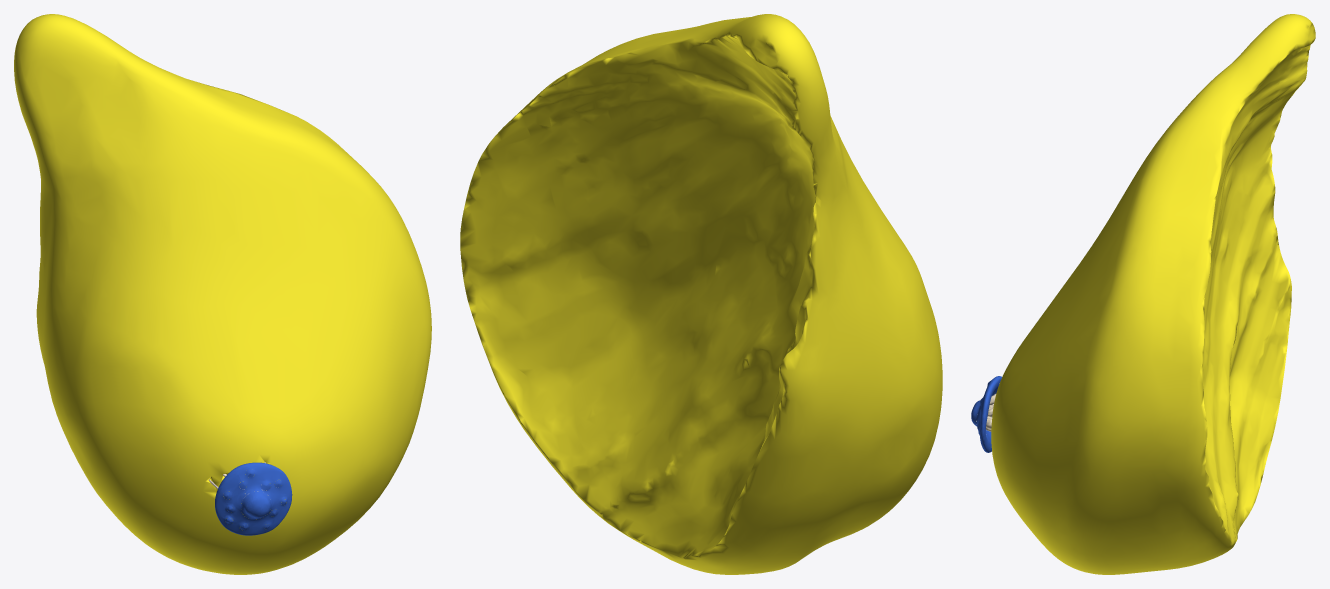
The model's file is 3d-vh-f-mammary-gland-r.glb.
The picture shows the model from 3 angles, left to right: view 1: azimuth 30°, elevation 25°; view 2: azimuth 150°, elevation 25°; view 3: azimuth 270°, elevation 25°; orthographic projection. The views are drawn at different scales.
Visible parts, largest first — view 1: VH_F_fat_R, VH_F_areola_R, VH_F_nipple_R, VH_F_areolar_tubercles_R; view 2: VH_F_fat_R; view 3: VH_F_fat_R, VH_F_areola_R.
Boxes of the visible parts, x1,y1,x2,y2 form: VH_F_fat_R: (14,14,431,574); VH_F_areola_R: (215,462,292,535); VH_F_nipple_R: (241,491,271,519); VH_F_areolar_tubercles_R: (223,468,286,530); VH_F_fat_R: (460,14,942,574); VH_F_fat_R: (991,14,1315,574); VH_F_areola_R: (976,376,1001,452).
Bounding box in the file's own units: 0.1283 × 0.18 × 0.1132.
